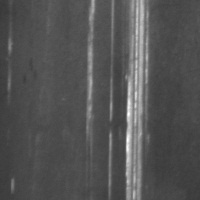scratches: (118, 0, 154, 199), (82, 0, 98, 135)
